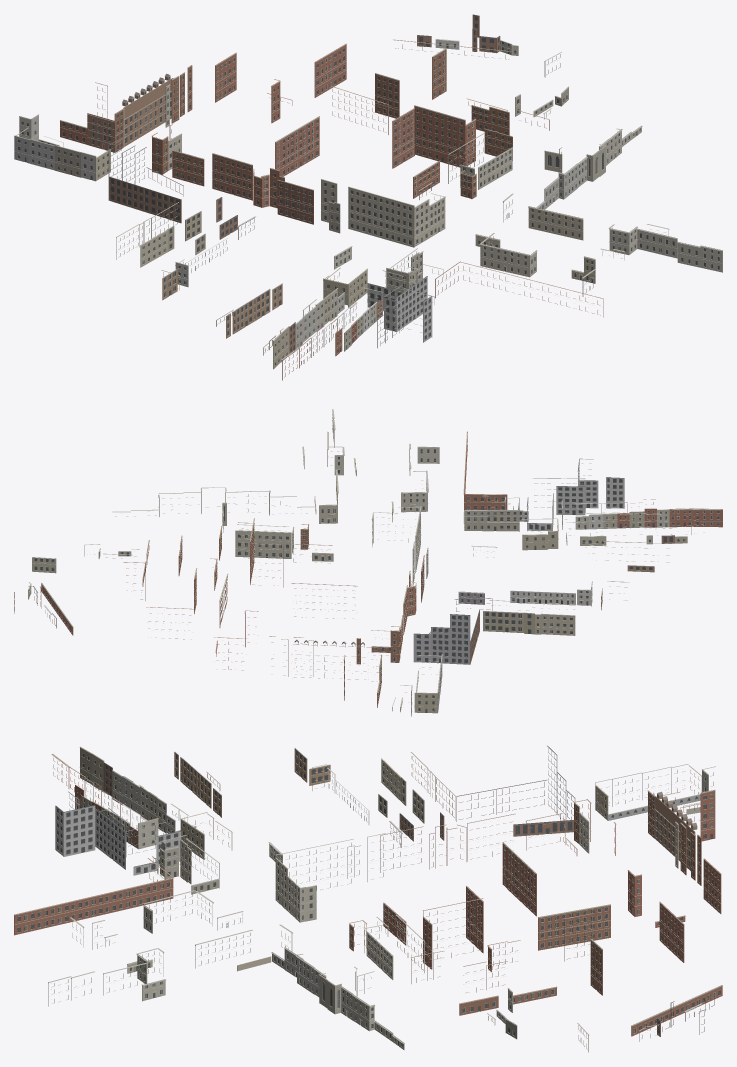
3 views of the same model, one above another, from view 1: azimuth 30°, elevation 25°; view 2: azimuth 150°, elevation 25°; view 3: azimuth 270°, elevation 25° (orthographic). The views are drawn at different scales.
Visible parts, largest first — view 1: f:way/28342864, f:way/28364196, f:way/40900612, f:way/131636313, f:way/140358944, f:way/134800797, f:way/31773757, f:way/134022561, f:way/27558188, f:way/28342897, f:way/28343083, f:way/28364204 (+17 smaller); view 2: f:way/140358944, f:way/28364251, f:way/134022561, f:way/134022563, f:way/31774332, f:way/134022564, f:way/136601298, f:way/28342864, f:way/157556302, f:way/39640956, f:way/31773757, f:way/151554024 (+5 smaller); view 3: f:way/39640956, f:way/28342851, f:way/40900612, f:way/28342864, f:way/28364196, f:way/134022561, f:way/140358944, f:way/27558188, f:way/134022564, f:way/134022563, f:way/28342897, f:way/28364204 (+21 smaller).
Boxes of the visible parts, left/top/right/bottom form: f:way/28342864: left=172, top=116, right=319, bottom=208; f:way/28364196: left=321, top=179, right=445, bottom=247; f:way/40900612: left=87, top=65, right=192, bottom=152; f:way/131636313: left=414, top=105, right=475, bottom=167; f:way/140358944: left=108, top=137, right=237, bottom=239; f:way/134800797: left=608, top=224, right=722, bottom=272; f:way/31773757: left=14, top=127, right=110, bottom=181; f:way/134022561: left=367, top=270, right=434, bottom=331; f:way/27558188: left=161, top=269, right=282, bottom=338; f:way/28342897: left=392, top=108, right=440, bottom=198; f:way/28343083: left=375, top=48, right=446, bottom=118; f:way/28364204: left=467, top=98, right=549, bottom=160; f:way/140358944: left=413, top=597, right=492, bottom=664; f:way/28364251: left=235, top=524, right=294, bottom=558; f:way/134022561: left=518, top=478, right=585, bottom=531; f:way/134022563: left=463, top=494, right=519, bottom=531; f:way/31774332: left=483, top=598, right=537, bottom=634; f:way/134022564: left=577, top=458, right=624, bottom=508; f:way/136601298: left=535, top=603, right=577, bottom=635; f:way/28342864: left=291, top=571, right=416, bottom=653; f:way/157556302: left=510, top=590, right=575, bottom=605; f:way/39640956: left=463, top=431, right=507, bottom=510; f:way/31773757: left=414, top=654, right=442, bottom=713; f:way/151554024: left=521, top=518, right=558, bottom=550; f:way/39640956: left=14, top=858, right=173, bottom=935; f:way/28342851: left=538, top=904, right=610, bottom=950; f:way/40900612: left=647, top=790, right=701, bottom=885; f:way/28342864: left=435, top=813, right=577, bottom=916; f:way/28364196: left=275, top=833, right=386, bottom=922; f:way/134022561: left=95, top=807, right=181, bottom=875; f:way/140358944: left=399, top=745, right=575, bottom=841; f:way/27558188: left=174, top=748, right=330, bottom=817; f:way/134022564: left=55, top=791, right=95, bottom=856; f:way/134022563: left=160, top=835, right=219, bottom=894; f:way/28342897: left=383, top=886, right=483, bottom=953; f:way/28364204: left=411, top=940, right=557, bottom=1015.
Size of the model in its own units: 255 by 25.94 by 269.
